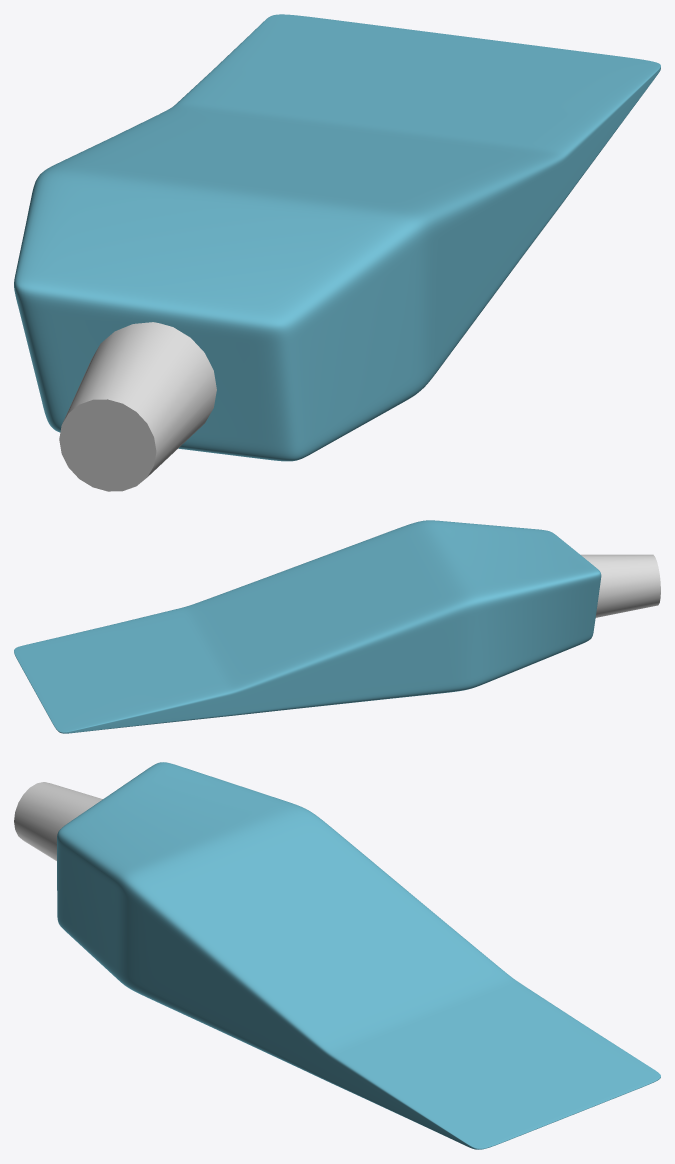
The model's file is tooth paste.fbx.
3 renders of one model, top to bottom at view 1: azimuth 30°, elevation 25°; view 2: azimuth 150°, elevation 25°; view 3: azimuth 270°, elevation 25°, orthographic. The views are drawn at different scales.
Visible parts, largest first — view 1: polySurface501; view 2: polySurface501; view 3: polySurface501.
Part boxes in pixels (x1,y1,x2,y2): polySurface501: (14, 14, 660, 491); polySurface501: (14, 520, 660, 733); polySurface501: (14, 762, 660, 1149).
Bounding box in the file's own units: 0.5023 × 0.0959 × 0.4815.
